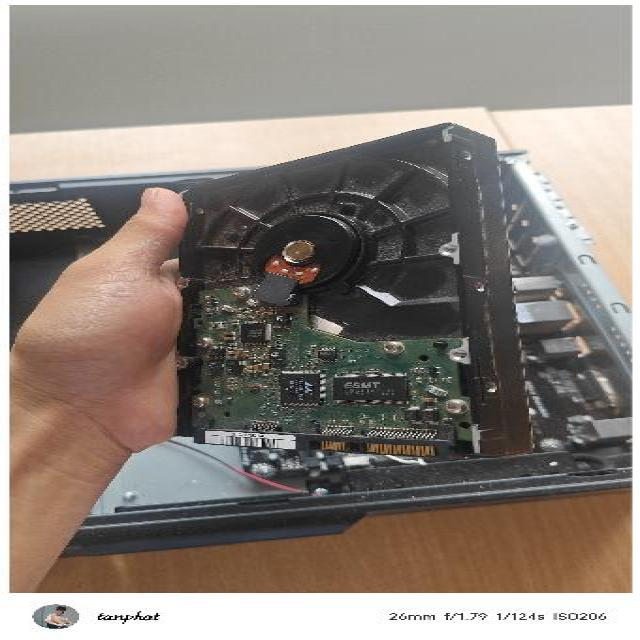DISK: (152, 120, 548, 457)
